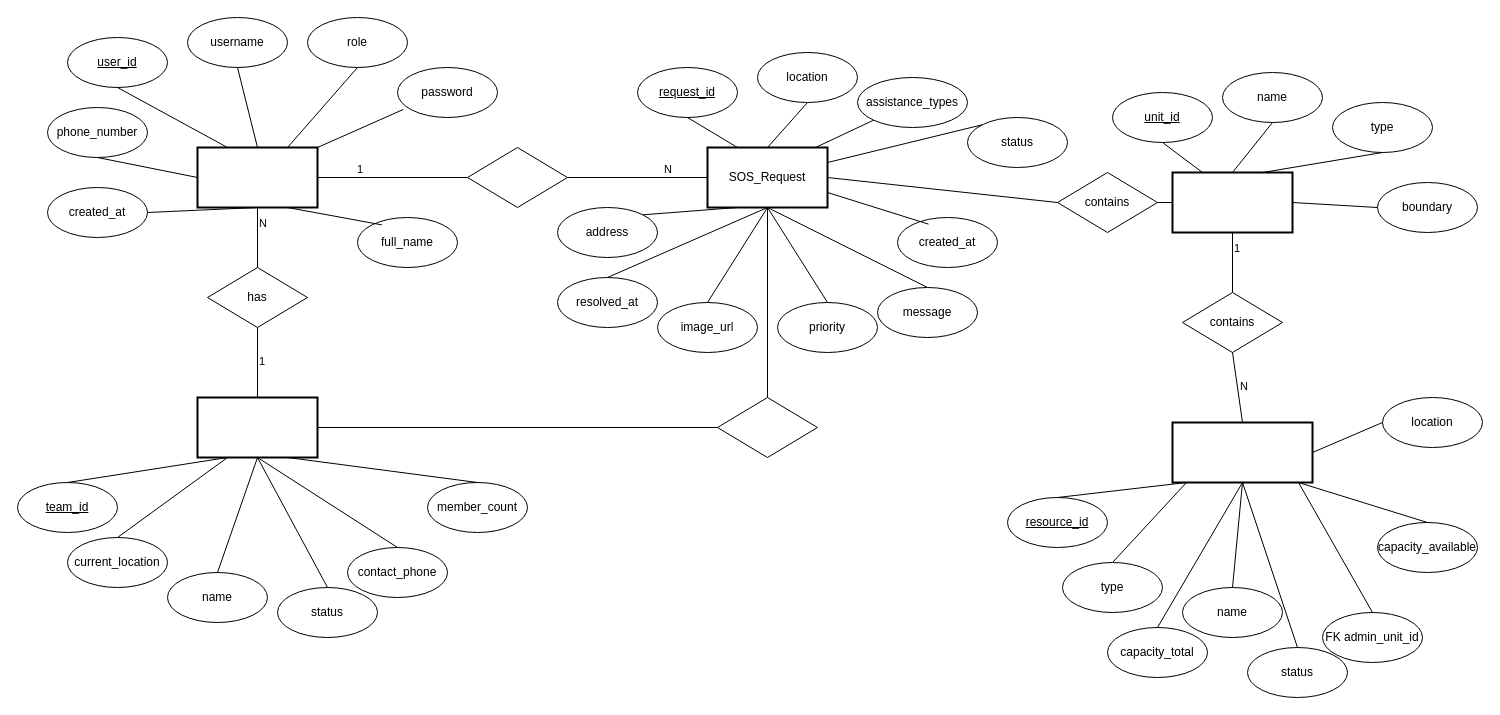
This 1500x715 diagram has some shape labels left out. The box of each missing label's shape, as (x1, y1, x2, y2) in pixels:
Admin_Unit: (1171, 171, 1293, 233)
creates: (466, 146, 568, 208)
Rescue_Resource: (1171, 421, 1313, 483)
Rescue_Team: (196, 396, 318, 458)
responds: (716, 396, 818, 458)
User: (196, 146, 318, 208)
